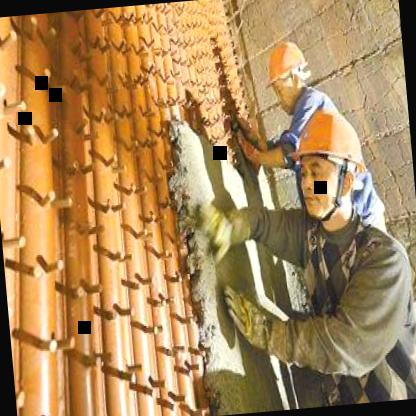helmet: (284, 95, 374, 229), (260, 40, 310, 110)
